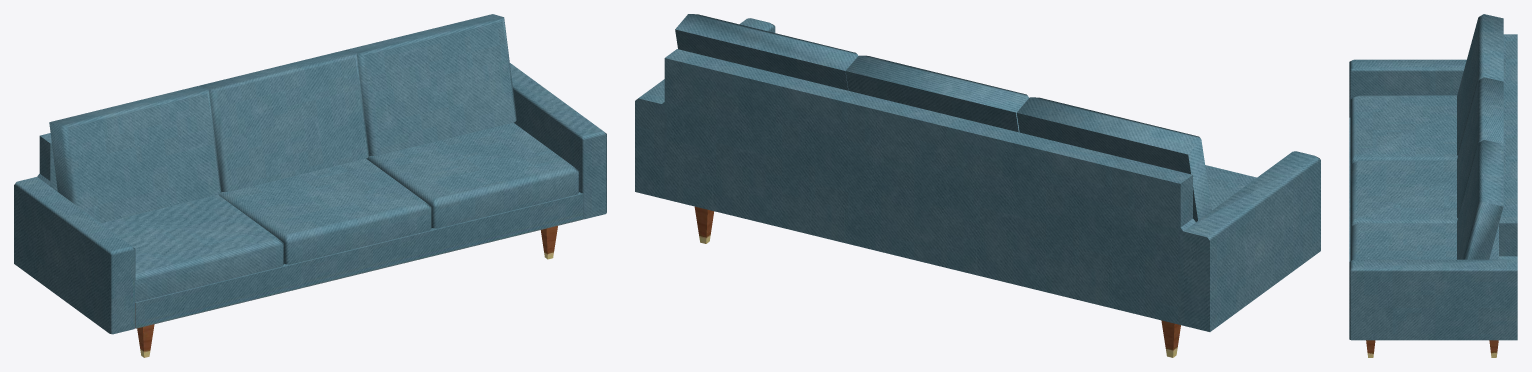
Rendered from Couch.fbx.
3 views of the same model, side by side, from view 1: azimuth 30°, elevation 25°; view 2: azimuth 150°, elevation 25°; view 3: azimuth 270°, elevation 25° (orthographic). The views are drawn at different scales.
Parts seen in each view (by area): view 1: couch1; view 2: couch1; view 3: couch1.
Boxes of the visible parts, box(x1,y1,x2,y2) form: couch1: box(14, 14, 606, 357); couch1: box(635, 14, 1320, 357); couch1: box(1349, 14, 1517, 357).
Size of the model in its own units: 331 by 120 by 112.
1 material, 1 textured.
